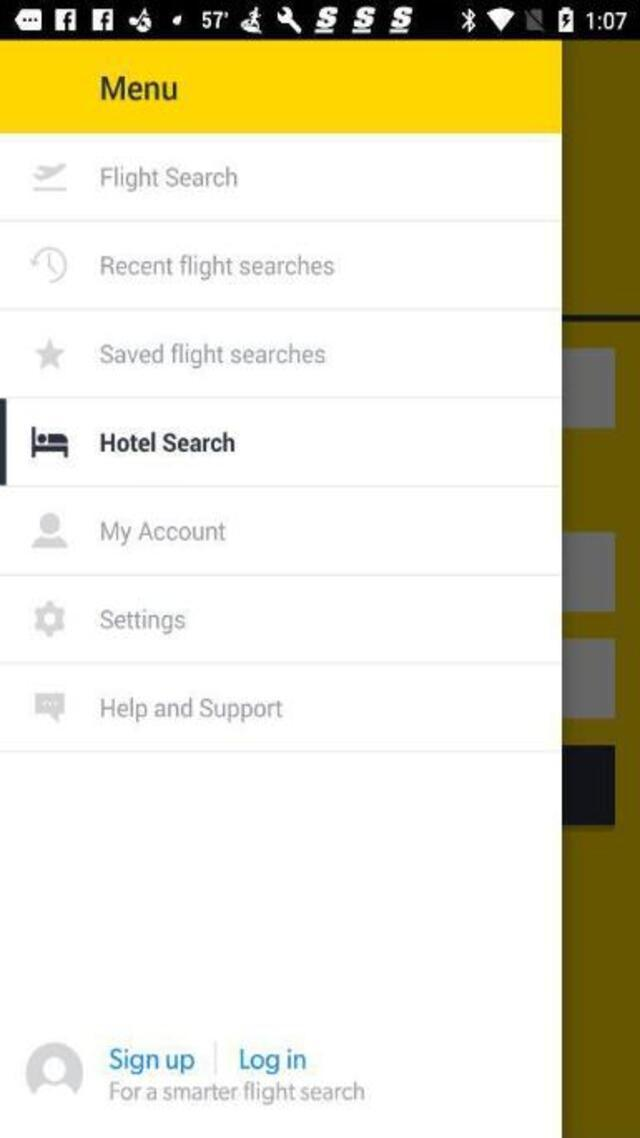Icon: (26, 1040, 84, 1097), (29, 246, 67, 284), (32, 512, 68, 548), (32, 424, 68, 458), (34, 600, 66, 638), (32, 161, 68, 191), (34, 336, 66, 368), (34, 691, 66, 721)
Text: (108, 1080, 364, 1108), (101, 252, 335, 280), (100, 340, 326, 368), (100, 694, 282, 722), (100, 164, 238, 192), (100, 520, 226, 547), (100, 430, 236, 452), (100, 606, 186, 634), (109, 1046, 194, 1074), (101, 74, 178, 100), (240, 1046, 306, 1074)
